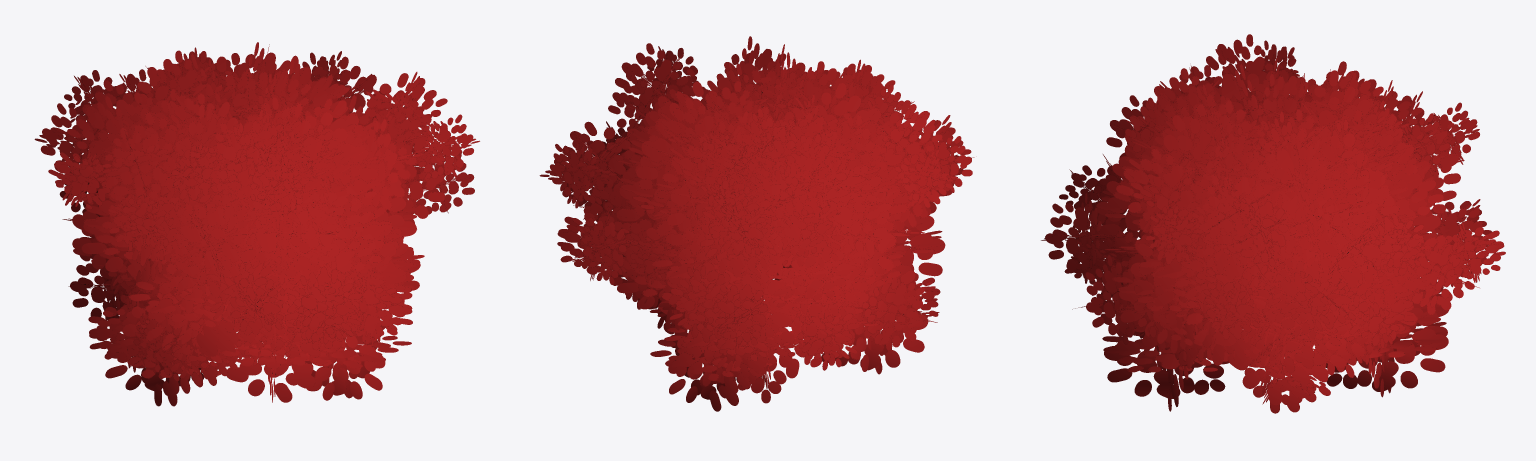
The model's file is bush_common.glb.
The picture shows the model from 3 angles, left to right: view 1: azimuth 30°, elevation 25°; view 2: azimuth 150°, elevation 25°; view 3: azimuth 270°, elevation 25°; orthographic projection. The views are drawn at different scales.
Parts seen in each view (by area): view 1: Bush_Common; view 2: Bush_Common; view 3: Bush_Common.
Part boxes in pixels (x1,y1,x2,y2): Bush_Common: (34, 42, 479, 406); Bush_Common: (539, 36, 974, 411); Bush_Common: (1041, 34, 1505, 413).
Bounding box in the file's own units: 1.91 × 1.58 × 1.97.
1 material, 1 textured.
